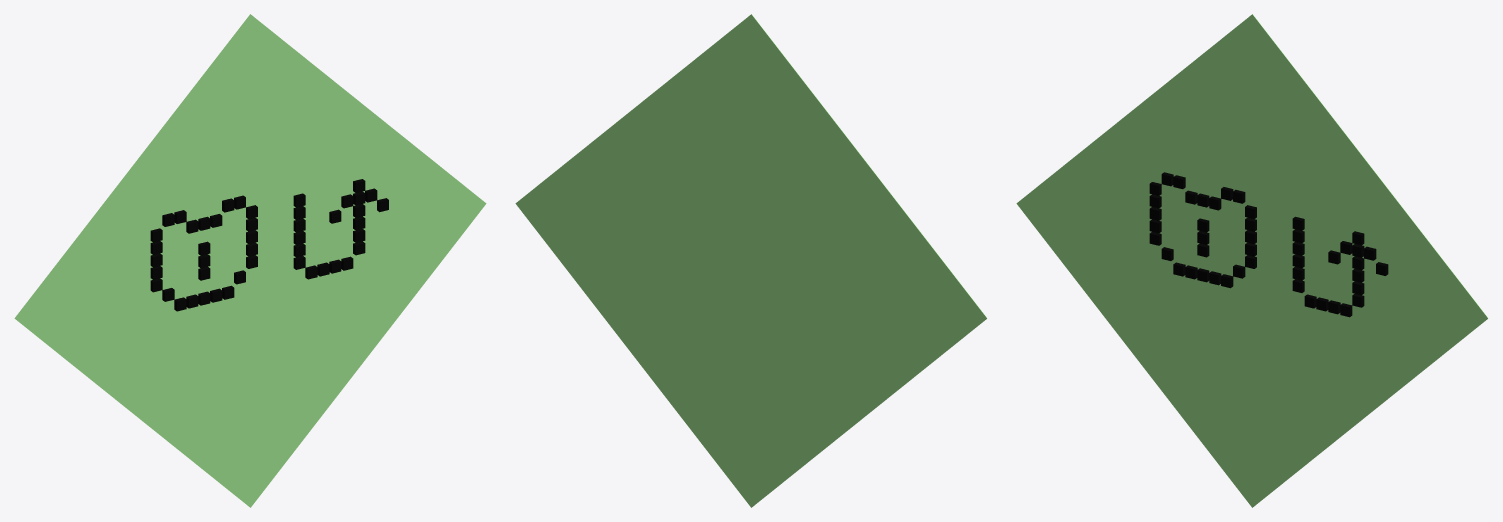
The model's file is ClearMySkipGuard.fbx.
3 renders of one model, left to right at view 1: azimuth 30°, elevation 25°; view 2: azimuth 150°, elevation 25°; view 3: azimuth 330°, elevation 25°, orthographic.
Parts seen in each view (by area): view 1: Cube.048; view 2: Cube.048; view 3: Cube.048.
Boxes of the visible parts, x1,y1,x2,y2 form: Cube.048: (14, 14, 486, 507); Cube.048: (515, 14, 987, 507); Cube.048: (1016, 14, 1488, 507).
Size of the model in its own units: 198 by 198 by 2.1.
